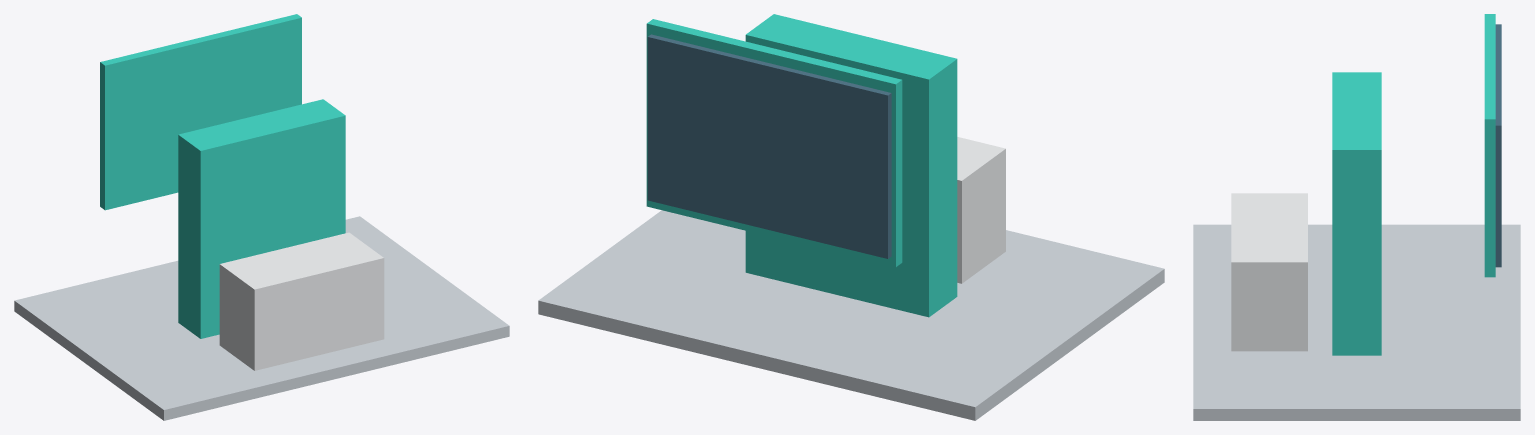
3 renders of one model, left to right at view 1: azimuth 30°, elevation 25°; view 2: azimuth 150°, elevation 25°; view 3: azimuth 270°, elevation 25°, orthographic. The views are drawn at different scales.
Visible parts, largest first — view 1: Exhibition Booth Concept; view 2: Exhibition Booth Concept; view 3: Exhibition Booth Concept.
Part boxes in pixels (left/top/right/bottom): Exhibition Booth Concept: left=14, top=14, right=509, bottom=420; Exhibition Booth Concept: left=538, top=14, right=1164, bottom=420; Exhibition Booth Concept: left=1193, top=14, right=1520, bottom=420.
Bounding box in the file's own units: 4 × 2.65 × 3.
